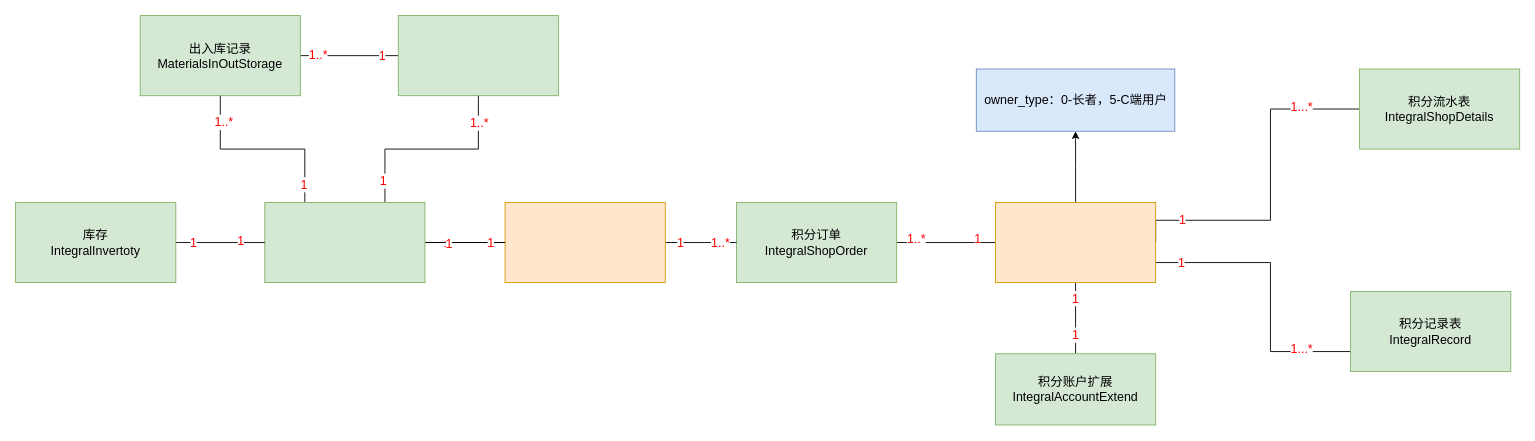
Image size: 1535x441. Some labels were removed from this diagram. The box of each missing label's shape, as (x1, y1, x2, y2) in pixels:
物品 IntegralRegistration: (264, 202, 425, 283)
积分商品 IntegralShop: (504, 202, 665, 283)
积分账户 NewAccount: (995, 202, 1156, 283)
调配记录 MaterialsDeployment: (397, 15, 558, 96)
